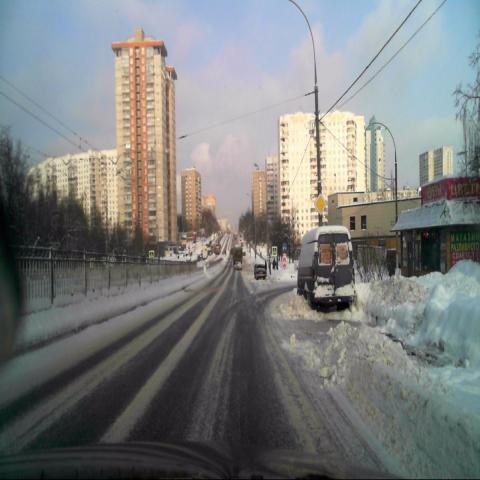2_1: (313, 192, 327, 216)
